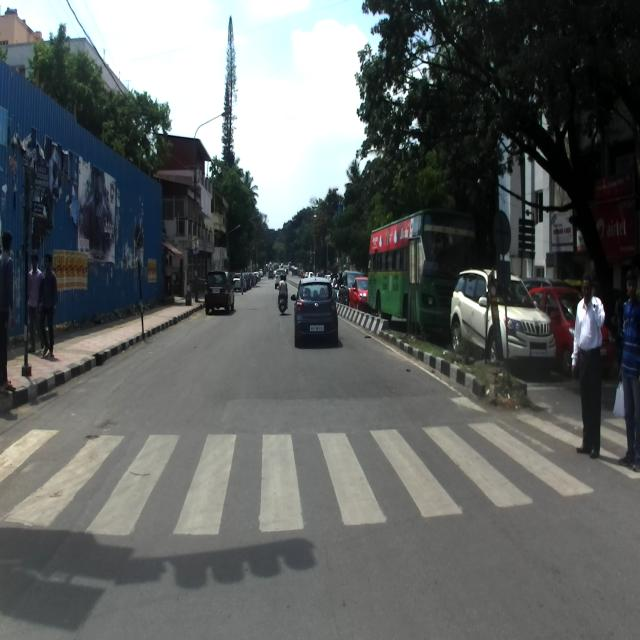car ahead at: (289, 273, 343, 348)
person ahead at: (569, 270, 612, 462)
zebra crossing ahead at: (3, 403, 598, 536)
